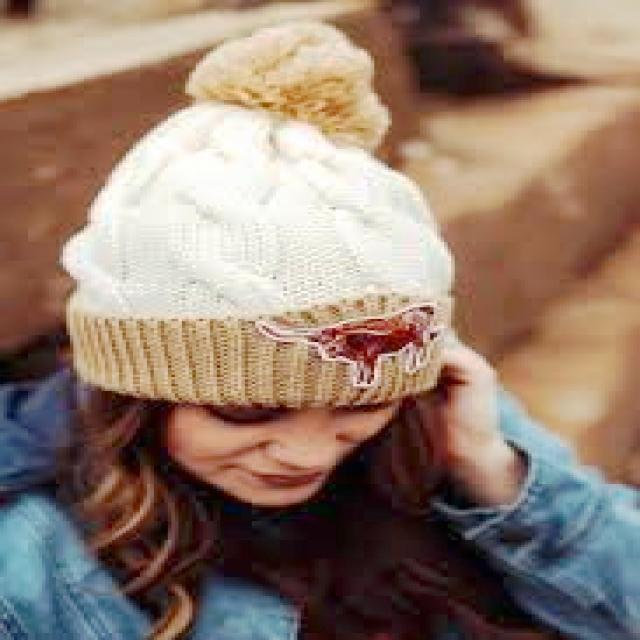TOPI: (53, 16, 458, 405)
